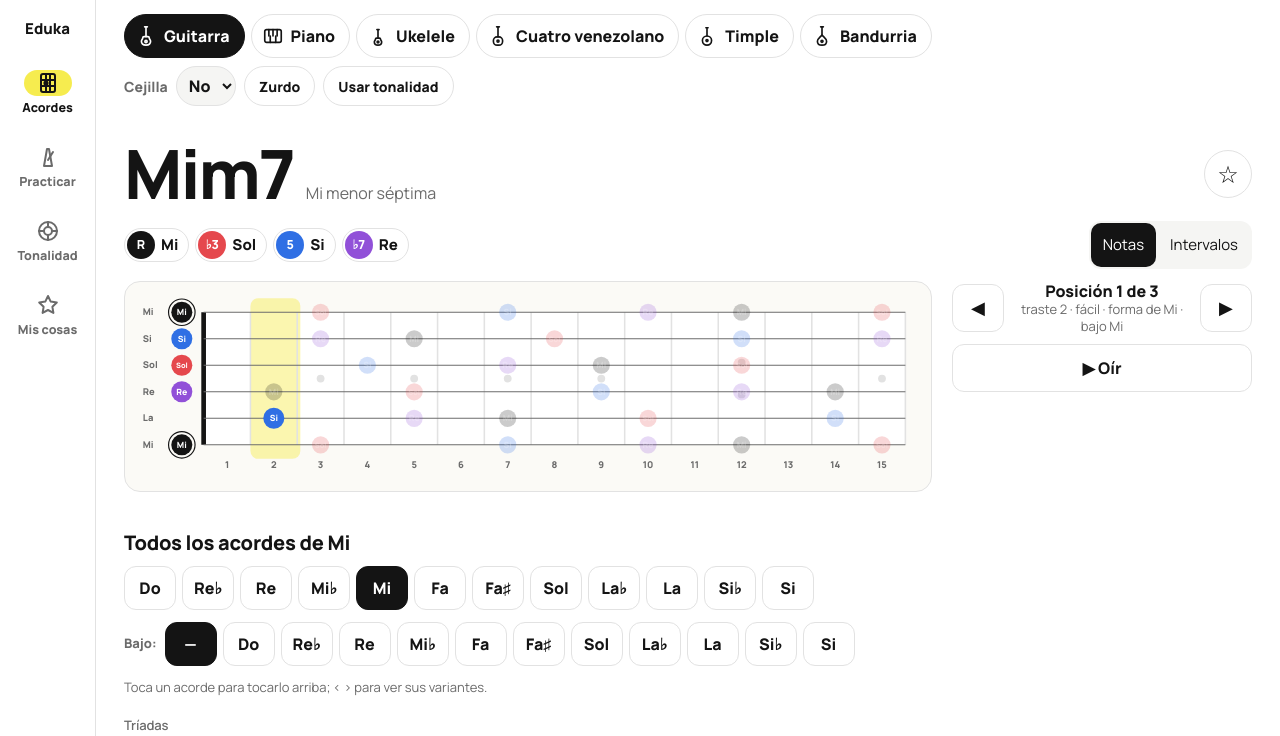
Scenario: Acordes sin tonalidad (por defecto) › el instrumento, la cejilla y el zurdo se cambian desde Acordes
Select "2" in the dropdown labelled "Cejilla": (206, 86) [176,66,236,106]
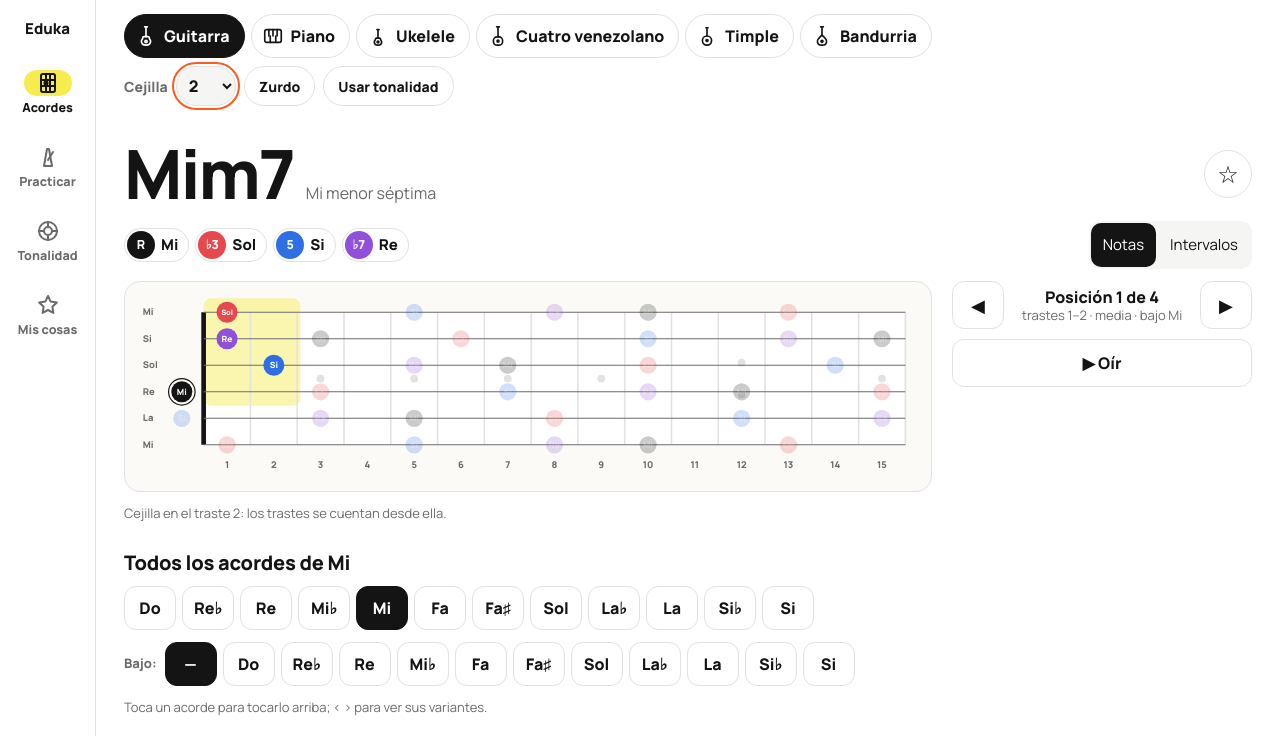
Click the button "Zurdo": (280, 86) [244,66,315,106]
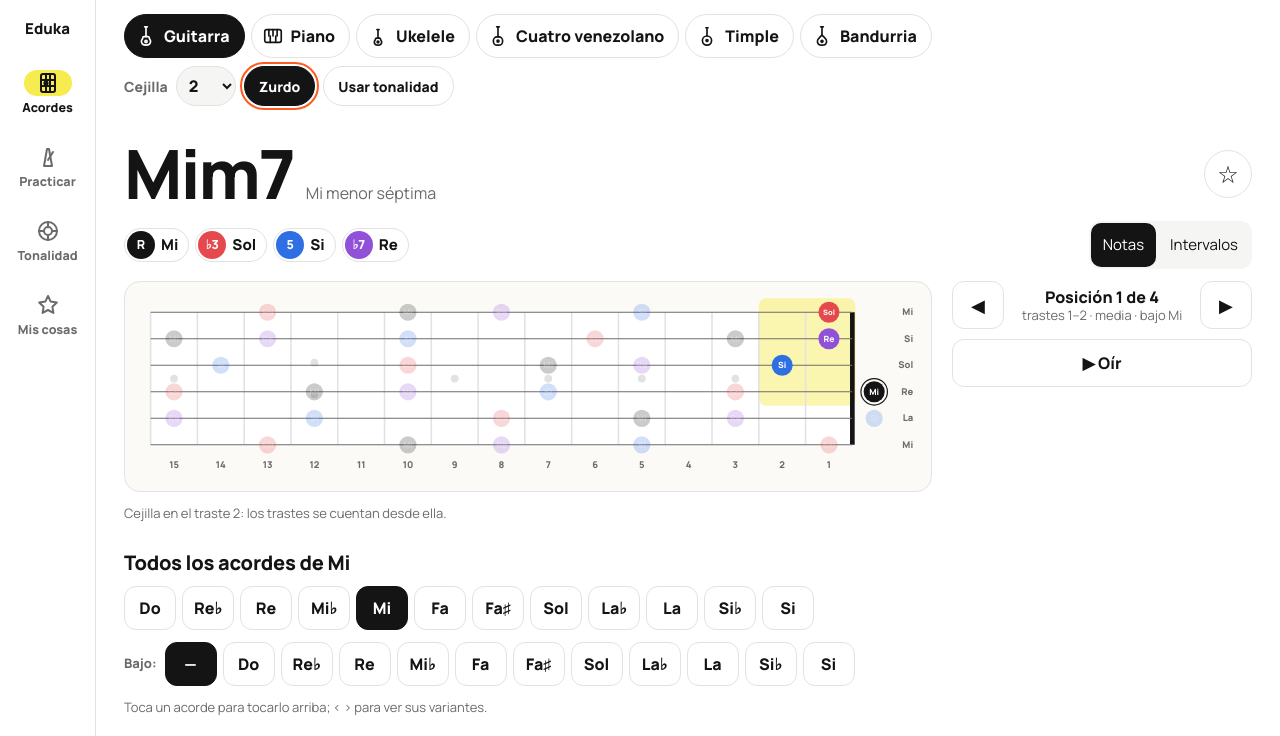
Click the button "Piano": (300, 36) [251,14,350,58]
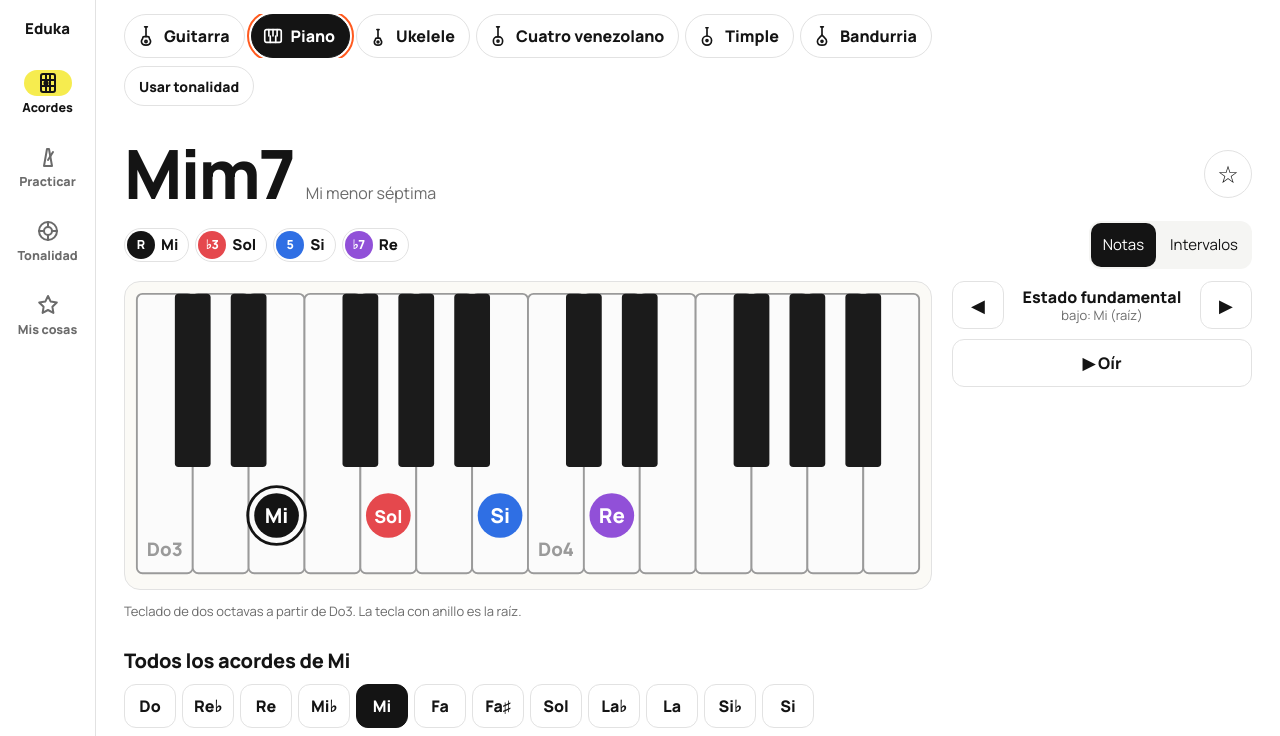
Result: the text labelled "Cejilla" is gone
